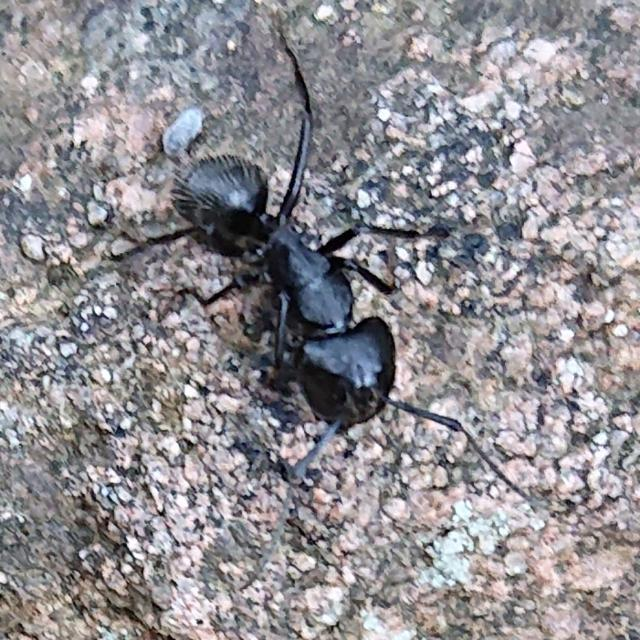Camponotus: (144, 105, 464, 479)
